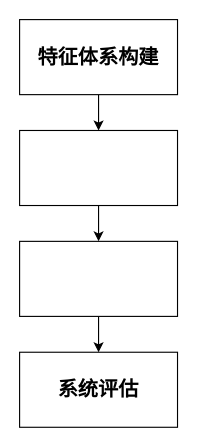
Image size: 197x447. Some labels were removed from this diagram. The shapes that lost their labels are listed below. From the top down, each one's centre as x and y in pixels, then its label:
(98,167): 混合基模型设计
(98,278): 自适应集成模型
